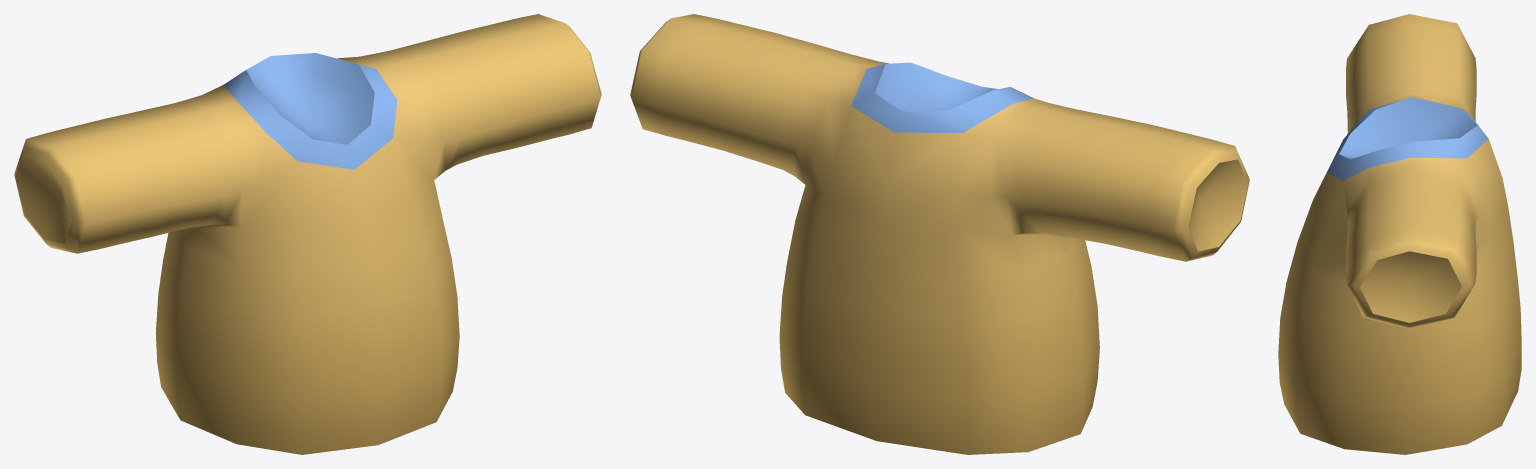
Rendered from Top_10.fbx.
3 views of the same model, side by side, from view 1: azimuth 30°, elevation 25°; view 2: azimuth 150°, elevation 25°; view 3: azimuth 270°, elevation 25° (orthographic). The views are drawn at different scales.
Parts seen in each view (by area): view 1: Top_10; view 2: Top_10; view 3: Top_10.
Boxes of the visible parts, bbox=[...] form: Top_10: bbox=[14, 14, 601, 454]; Top_10: bbox=[630, 14, 1249, 454]; Top_10: bbox=[1278, 14, 1521, 454].
Size of the model in its own units: 80.71 by 46.22 by 35.79.
